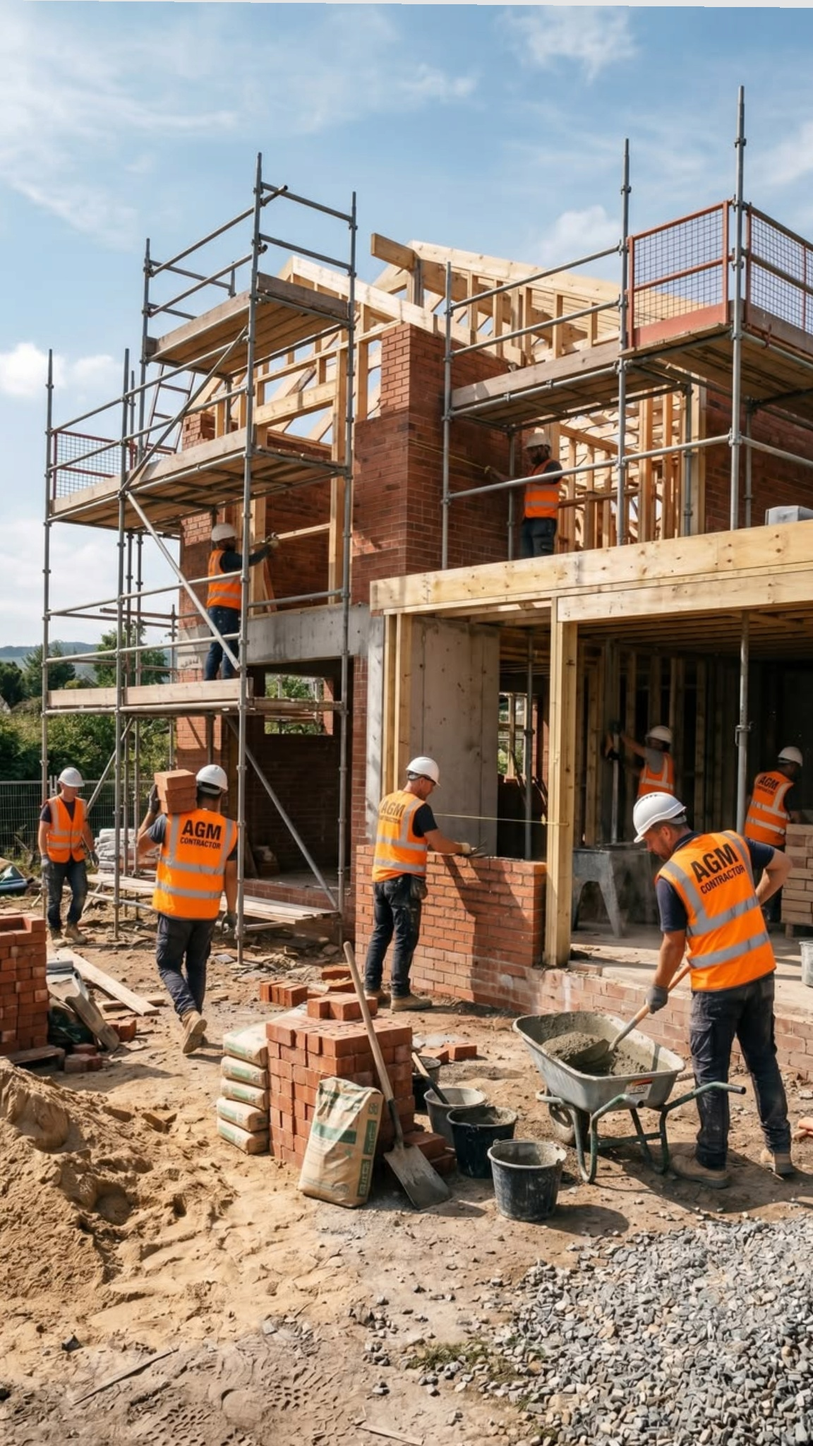hardhat: (620, 793, 693, 831), (397, 751, 450, 797), (205, 514, 247, 556), (50, 743, 89, 785), (177, 758, 230, 787), (513, 431, 557, 462), (630, 718, 680, 743), (762, 741, 794, 770)
person: (580, 789, 802, 1204), (341, 747, 471, 1018), (133, 758, 245, 1051), (163, 500, 297, 651), (601, 697, 695, 907), (490, 410, 599, 590), (722, 688, 802, 932), (18, 728, 102, 944)
safety_vest: (647, 842, 777, 1016), (146, 789, 221, 940), (31, 787, 94, 909), (358, 781, 429, 886), (192, 550, 268, 634), (622, 743, 674, 829), (747, 762, 783, 852), (523, 466, 557, 529)
